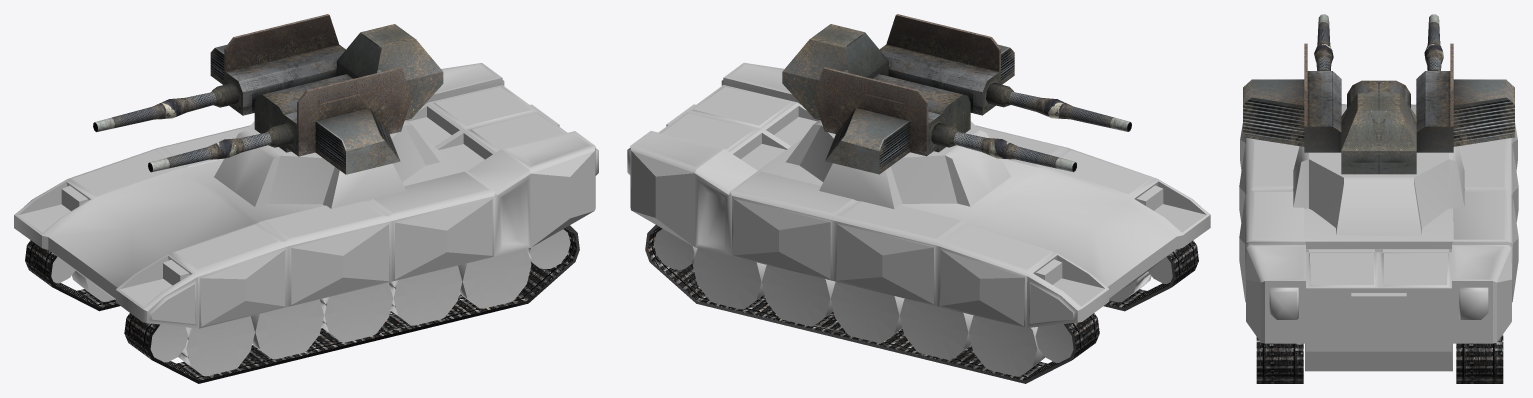
The model's file is Tank1_lod1.FBX.
3 renders of one model, left to right at view 1: azimuth 30°, elevation 25°; view 2: azimuth 150°, elevation 25°; view 3: azimuth 270°, elevation 25°, orthographic.
Visible parts, largest first — view 1: tank07, tank1_gun01, Object26, wheel103, wheel108, wheel105, wheel106, wheel104, wheel107, wheel102; view 2: tank07, tank1_gun01, Object26, wheel100, wheel85, wheel99, wheel98, wheel97, wheel101, wheel83; view 3: tank07, tank1_gun01, Object26.
Part boxes in pixels (<box>): tank07: <box>14,63,598,328</box>; tank1_gun01: <box>93,14,443,174</box>; Object26: <box>25,225,579,383</box>; wheel103: <box>178,316,254,376</box>; wheel108: <box>458,248,531,308</box>; wheel105: <box>320,282,393,342</box>; wheel106: <box>389,265,462,325</box>; wheel104: <box>250,299,323,359</box>; wheel107: <box>527,229,570,268</box>; wheel102: <box>150,324,187,362</box>; tank07: <box>627,62,1210,327</box>; tank1_gun01: <box>782,14,1131,174</box>; Object26: <box>645,224,1198,383</box>; wheel100: <box>693,248,766,309</box>; wheel85: <box>968,315,1045,376</box>; wheel99: <box>761,265,835,326</box>; wheel98: <box>830,281,904,342</box>; wheel97: <box>899,298,973,359</box>; wheel101: <box>653,228,697,269</box>; wheel83: <box>1035,324,1073,362</box>; tank07: <box>1239,104,1518,371</box>; tank1_gun01: <box>1243,14,1514,174</box>; Object26: <box>1256,334,1503,383</box>.
Size of the model in its own units: 7.06 by 3.52 by 3.65.
